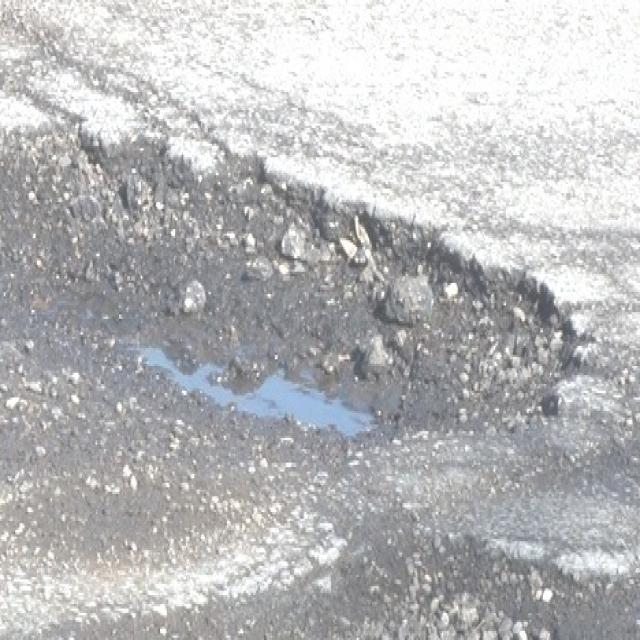road-pothole: (0, 135, 579, 565)
